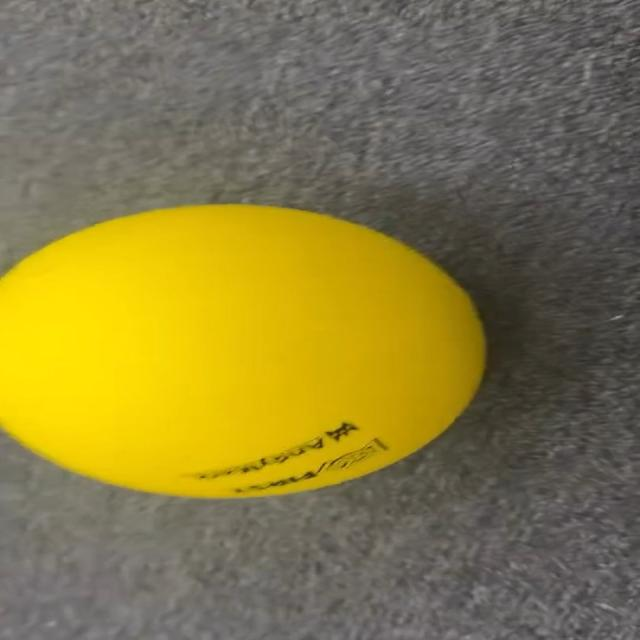Fuels: (4, 206, 488, 493)
